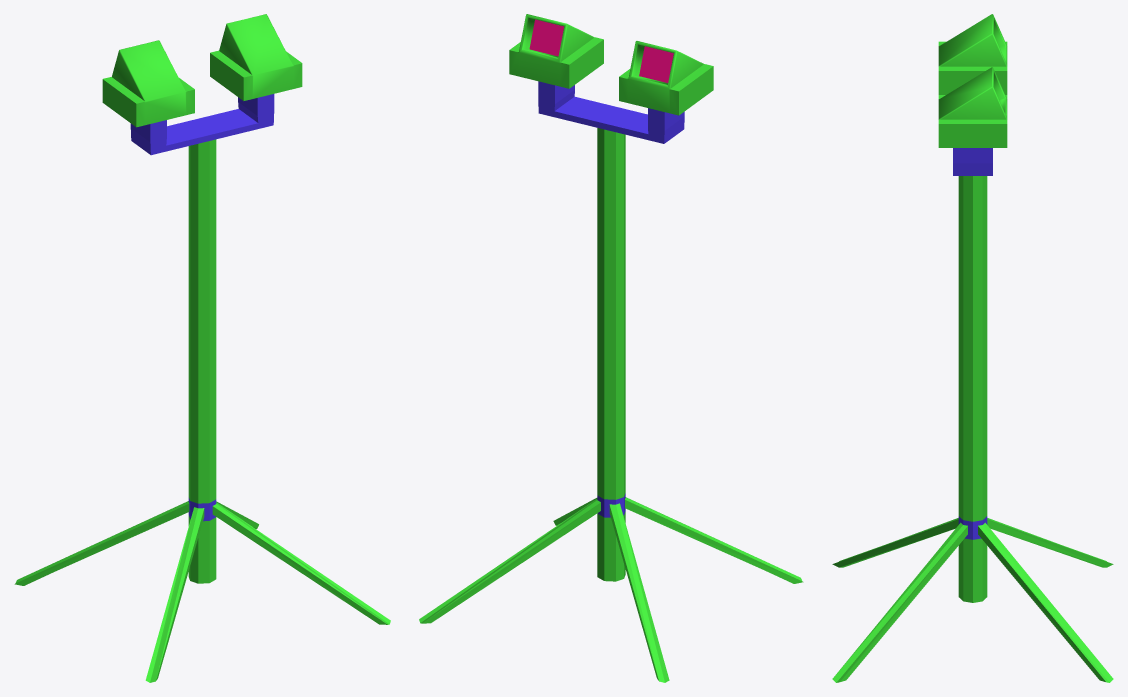
File: SM_SpotChantier.fbx
The picture shows the model from 3 angles, left to right: view 1: azimuth 30°, elevation 25°; view 2: azimuth 150°, elevation 25°; view 3: azimuth 270°, elevation 25°; orthographic projection. The views are drawn at different scales.
Visible parts, largest first — view 1: SM_SpotChantier; view 2: SM_SpotChantier; view 3: SM_SpotChantier.
Part boxes in pixels (left/top/right/bottom): SM_SpotChantier: left=14, top=14, right=390, bottom=682; SM_SpotChantier: left=419, top=14, right=803, bottom=682; SM_SpotChantier: left=832, top=14, right=1113, bottom=682.
Bounding box in the file's own units: 101 × 223 × 98.93.
